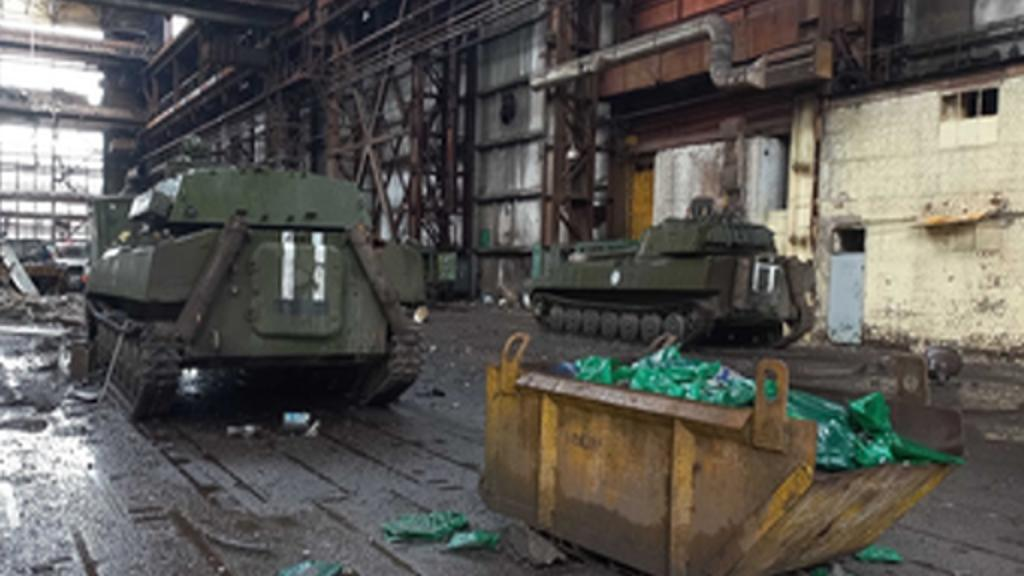ART: (66, 162, 436, 414), (522, 202, 826, 356)
